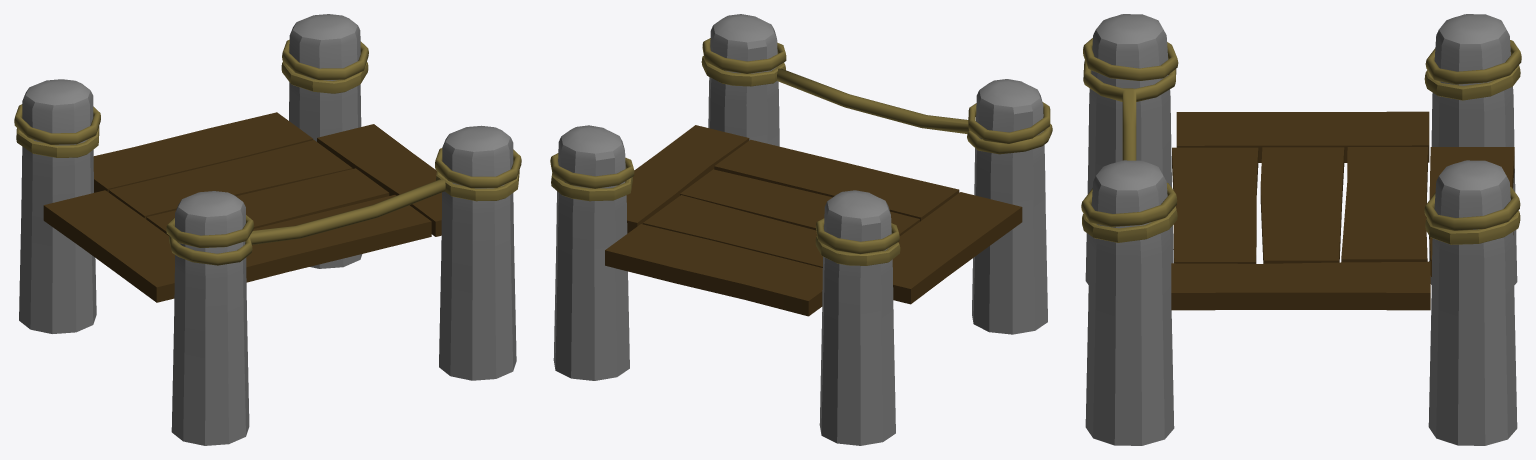
File: DockConnectorTwoOppositeway.fbx
The picture shows the model from 3 angles, left to right: view 1: azimuth 30°, elevation 25°; view 2: azimuth 150°, elevation 25°; view 3: azimuth 270°, elevation 25°; orthographic projection. The views are drawn at different scales.
Parts seen in each view (by area): view 1: DockPillar022, DockPillar021, DockPillar019, DockPlanks022, DockPlanks025, DockPlanks024, DockPlanks026, DockPillar020, DockPlanks027, DockPlanks023, RopeDock048, RopeDock056 (+6 smaller); view 2: DockPillar019, DockPillar020, DockPillar021, DockPlanks025, DockPlanks022, DockPlanks026, DockPillar022, DockPlanks024, DockPlanks027, DockPlanks023, RopeDock048, RopeDock054 (+6 smaller); view 3: DockPillar020, DockPillar022, DockPlanks027, DockPlanks026, DockPlanks024, DockPillar021, DockPlanks023, DockPlanks022, DockPillar019, RopeDock048, DockPlanks025, RopeDock056 (+6 smaller).
Part boxes in pixels (bbox=[...]): DockPillar022: bbox=[439, 125, 516, 380]; DockPillar021: bbox=[171, 191, 249, 445]; DockPillar019: bbox=[19, 79, 96, 333]; DockPlanks022: bbox=[43, 190, 174, 302]; DockPlanks025: bbox=[93, 112, 313, 192]; DockPlanks024: bbox=[108, 140, 352, 218]; DockPlanks026: bbox=[246, 195, 431, 282]; DockPillar020: bbox=[289, 14, 362, 268]; DockPlanks027: bbox=[317, 124, 441, 236]; DockPlanks023: bbox=[146, 168, 389, 235]; RopeDock048: bbox=[169, 179, 445, 265]; RopeDock056: bbox=[435, 148, 521, 188]; DockPillar019: bbox=[819, 190, 895, 445]; DockPillar020: bbox=[553, 125, 629, 380]; DockPillar021: bbox=[972, 79, 1047, 334]; DockPlanks025: bbox=[605, 224, 822, 316]; DockPlanks022: bbox=[892, 192, 1022, 304]; DockPlanks026: bbox=[714, 139, 959, 221]; DockPillar022: bbox=[708, 14, 779, 146]; DockPlanks024: bbox=[643, 195, 822, 267]; DockPlanks027: bbox=[626, 125, 749, 233]; DockPlanks023: bbox=[680, 169, 919, 236]; RopeDock048: bbox=[777, 68, 1052, 154]; RopeDock054: bbox=[968, 102, 1050, 143]; DockPillar020: bbox=[1428, 160, 1517, 445]; DockPillar022: bbox=[1085, 160, 1174, 445]; DockPlanks027: bbox=[1171, 261, 1430, 310]; DockPlanks026: bbox=[1172, 147, 1258, 263]; DockPlanks024: bbox=[1341, 147, 1427, 262]; DockPillar021: bbox=[1085, 14, 1173, 284]; DockPlanks023: bbox=[1260, 147, 1344, 263]; DockPlanks022: bbox=[1176, 111, 1429, 162]; DockPillar019: bbox=[1429, 14, 1517, 284]; RopeDock048: bbox=[1083, 60, 1176, 160]; DockPlanks025: bbox=[1429, 147, 1514, 276]; RopeDock056: bbox=[1081, 183, 1177, 226].
Size of the model in its own units: 162 by 161 by 105.
